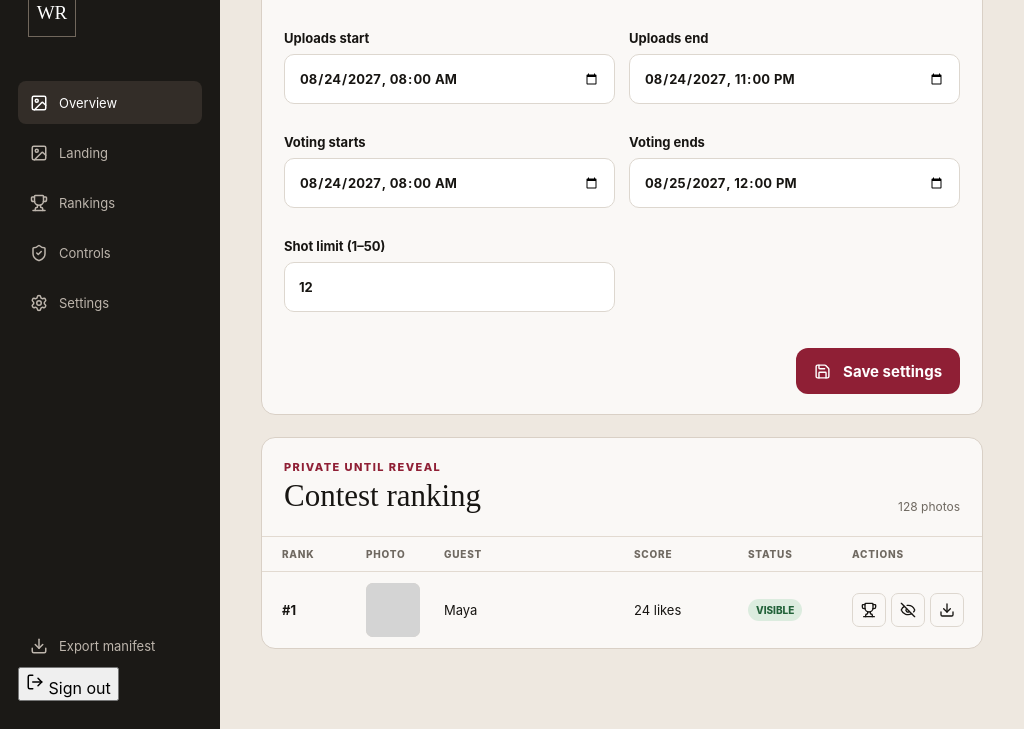
Test: AdminDashboard › hides a visible photo while preserving its likes in the row
(page scrolled)
Click the button named "Hide Maya's photo": (908, 610) left=891, top=593, right=925, bottom=627
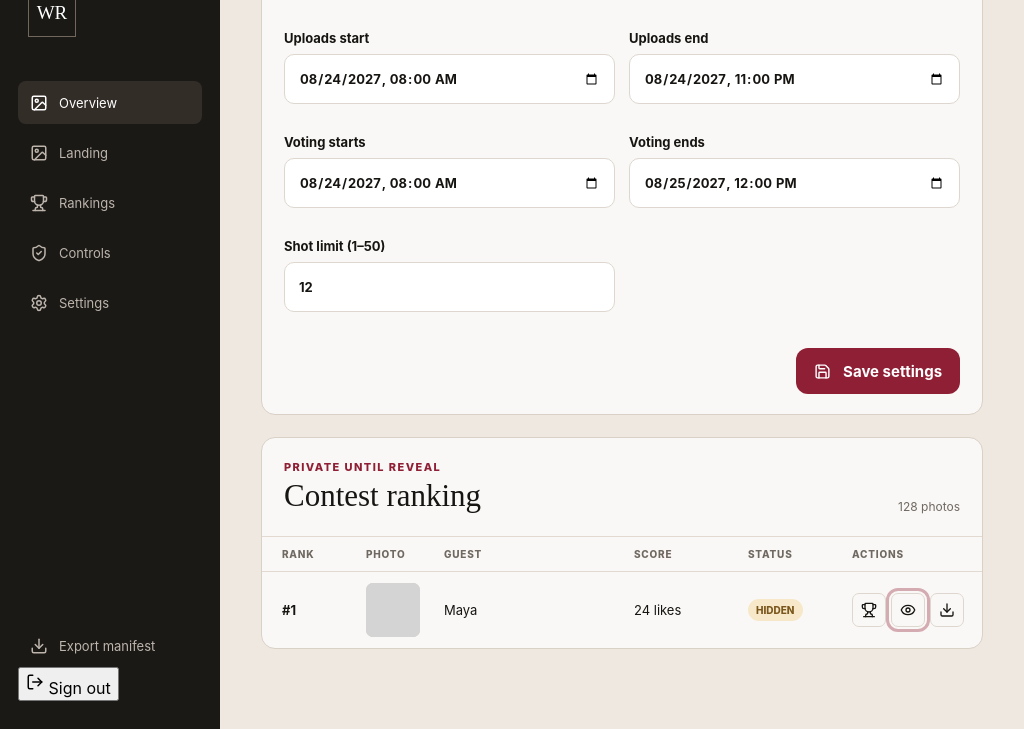
Expected: the text "24 likes" is shown, left=634, top=602, right=681, bottom=618
Expected: the text "Hidden" is shown, left=748, top=599, right=803, bottom=621
